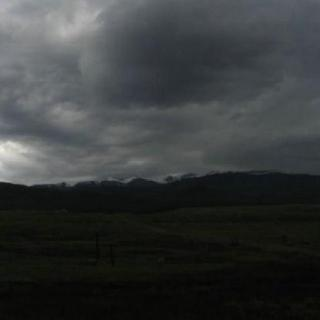Stratocumulus: (0, 2, 320, 170)
